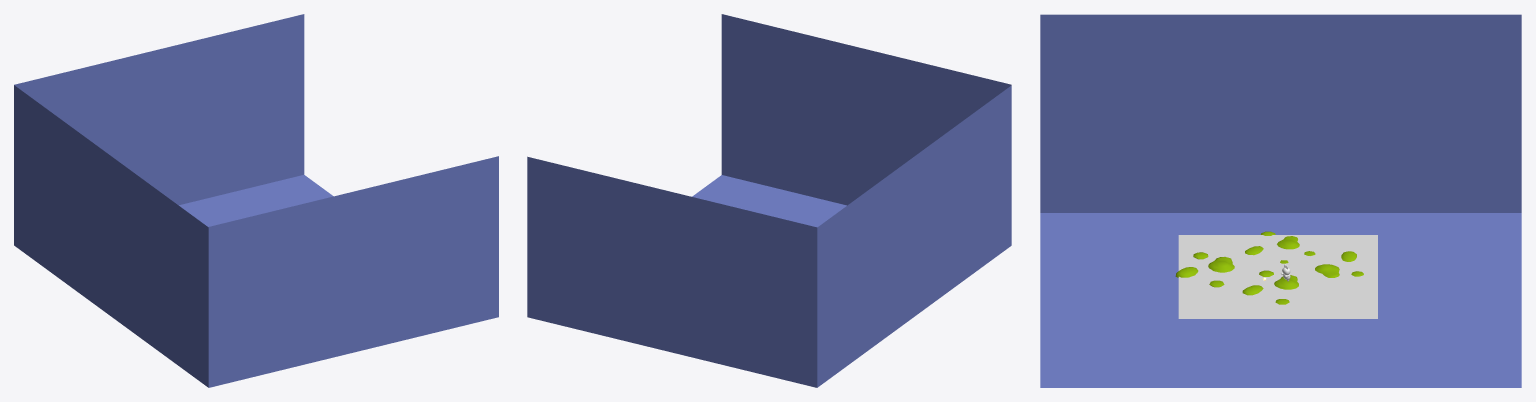
Rendered from geonodes.gltf.
The picture shows the model from 3 angles, left to right: view 1: azimuth 30°, elevation 25°; view 2: azimuth 150°, elevation 25°; view 3: azimuth 270°, elevation 25°; orthographic projection. The views are drawn at different scales.
Visible parts, largest first — view 1: Plane; view 2: Plane; view 3: Plane, bubbles animation, land.001, land, land.003, land.002.
Part boxes in pixels (bbox=[...]): Plane: bbox=[14, 14, 498, 387]; Plane: bbox=[527, 14, 1011, 387]; Plane: bbox=[1040, 14, 1521, 387]; bubbles animation: bbox=[1178, 235, 1377, 318]; land.001: bbox=[1175, 252, 1234, 287]; land: bbox=[1242, 270, 1298, 304]; land.003: bbox=[1304, 251, 1363, 277]; land.002: bbox=[1245, 231, 1299, 263].
Size of the model in its own units: 72.75 by 43.68 by 84.54.
